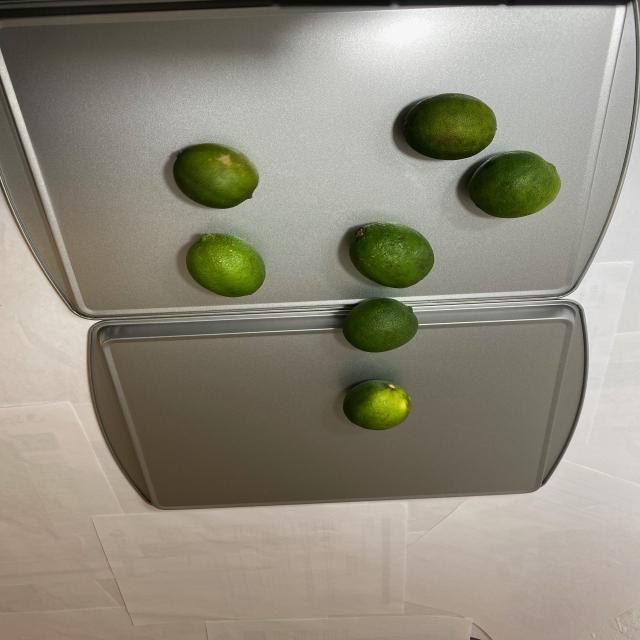lemon: (333, 99, 561, 433), (164, 144, 268, 294)
